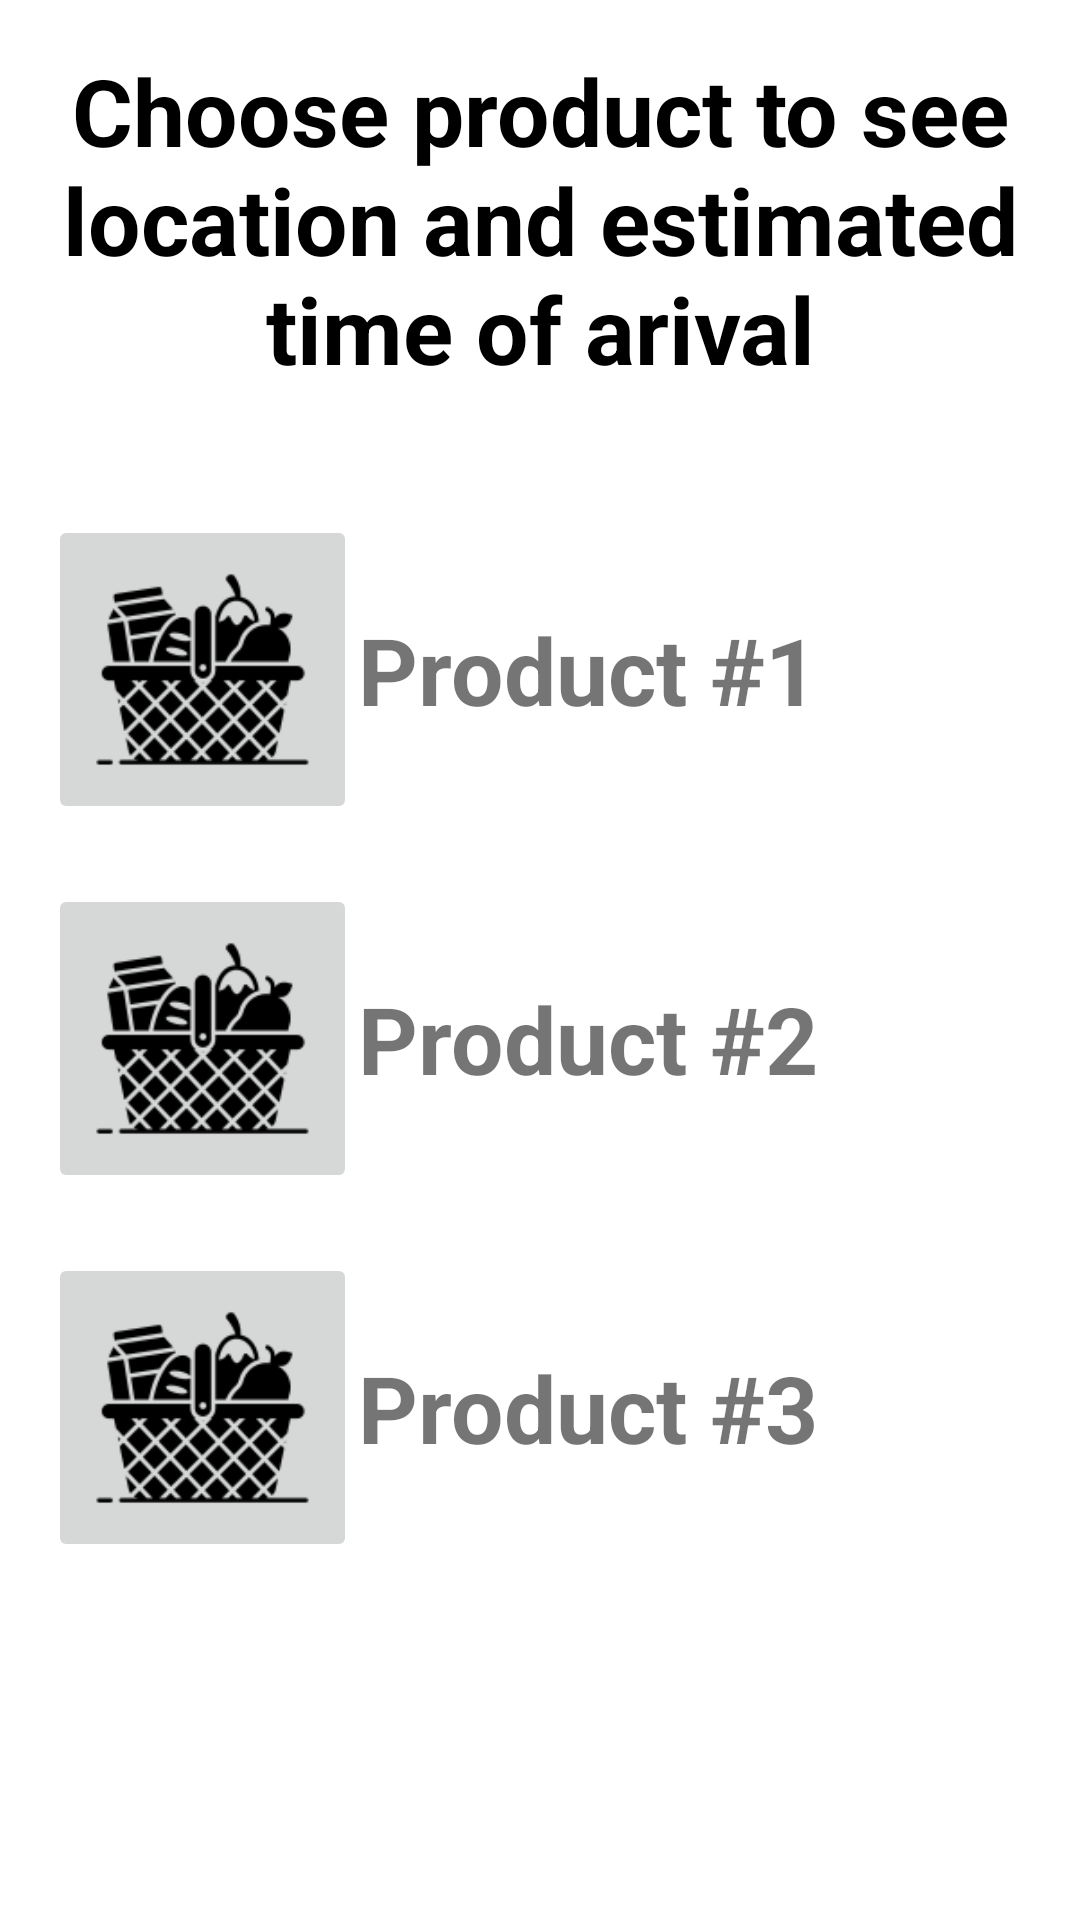

Icon click points for this 1080px x 1920px phone screenshot, format [x,y]:
groceries: [202,669], [202,1038], [202,1407]
